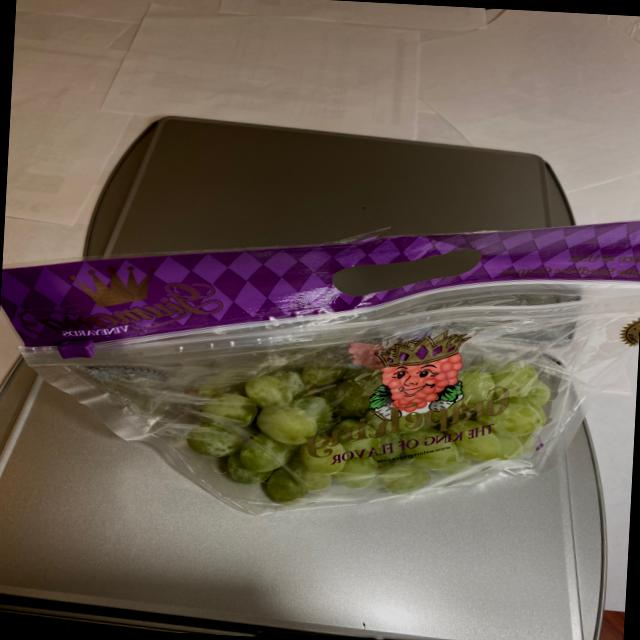grapes: (148, 344, 572, 506)
